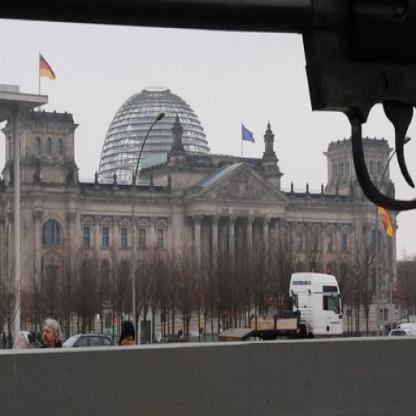gun: (0, 0, 415, 341)
